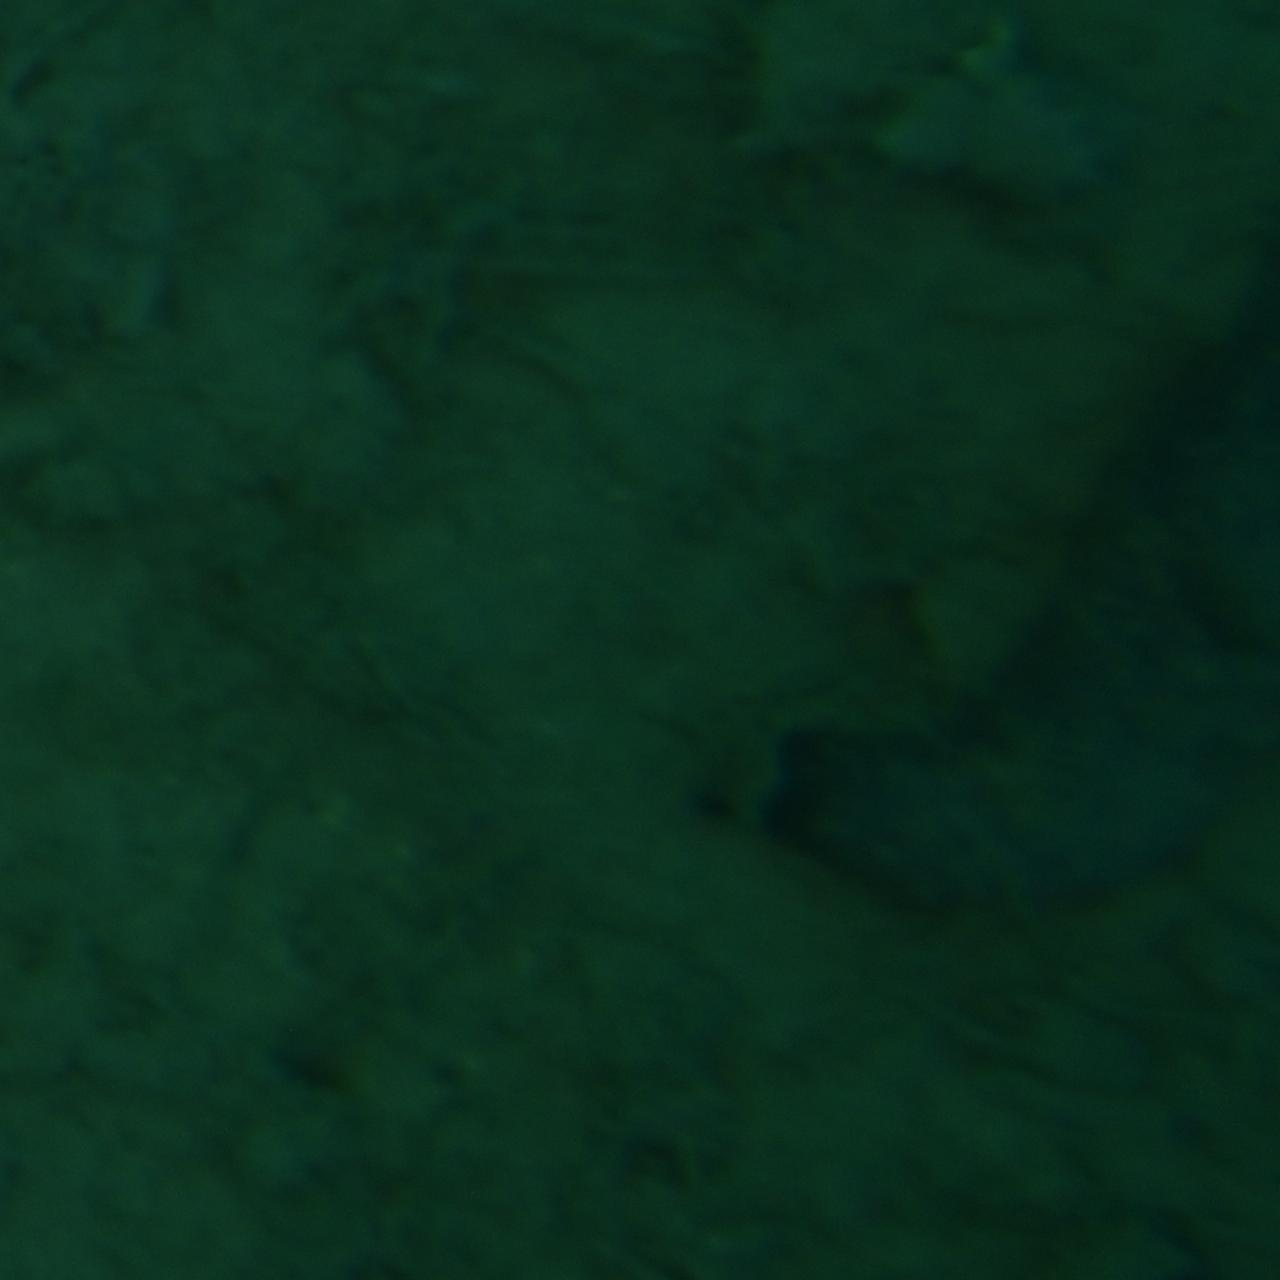Holothuria tubulosa: (741, 316, 1279, 964)
